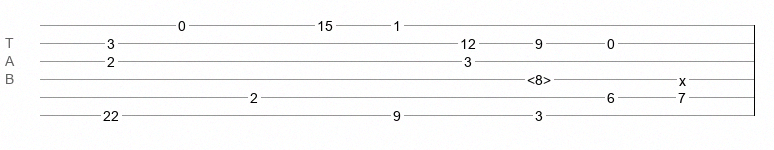0: (178, 18, 186, 28), (607, 36, 615, 46)
1: (393, 18, 401, 28)
12: (460, 36, 476, 46)
15: (317, 18, 333, 28)
2: (107, 54, 115, 64), (250, 90, 258, 100)
22: (103, 108, 119, 118)
3: (107, 36, 115, 46), (464, 54, 472, 64), (535, 108, 543, 118)
6: (607, 90, 615, 100)
7: (678, 90, 686, 100)
9: (393, 108, 401, 118), (535, 36, 543, 46)
harmonic: (527, 72, 551, 82)
x: (679, 73, 686, 81)
